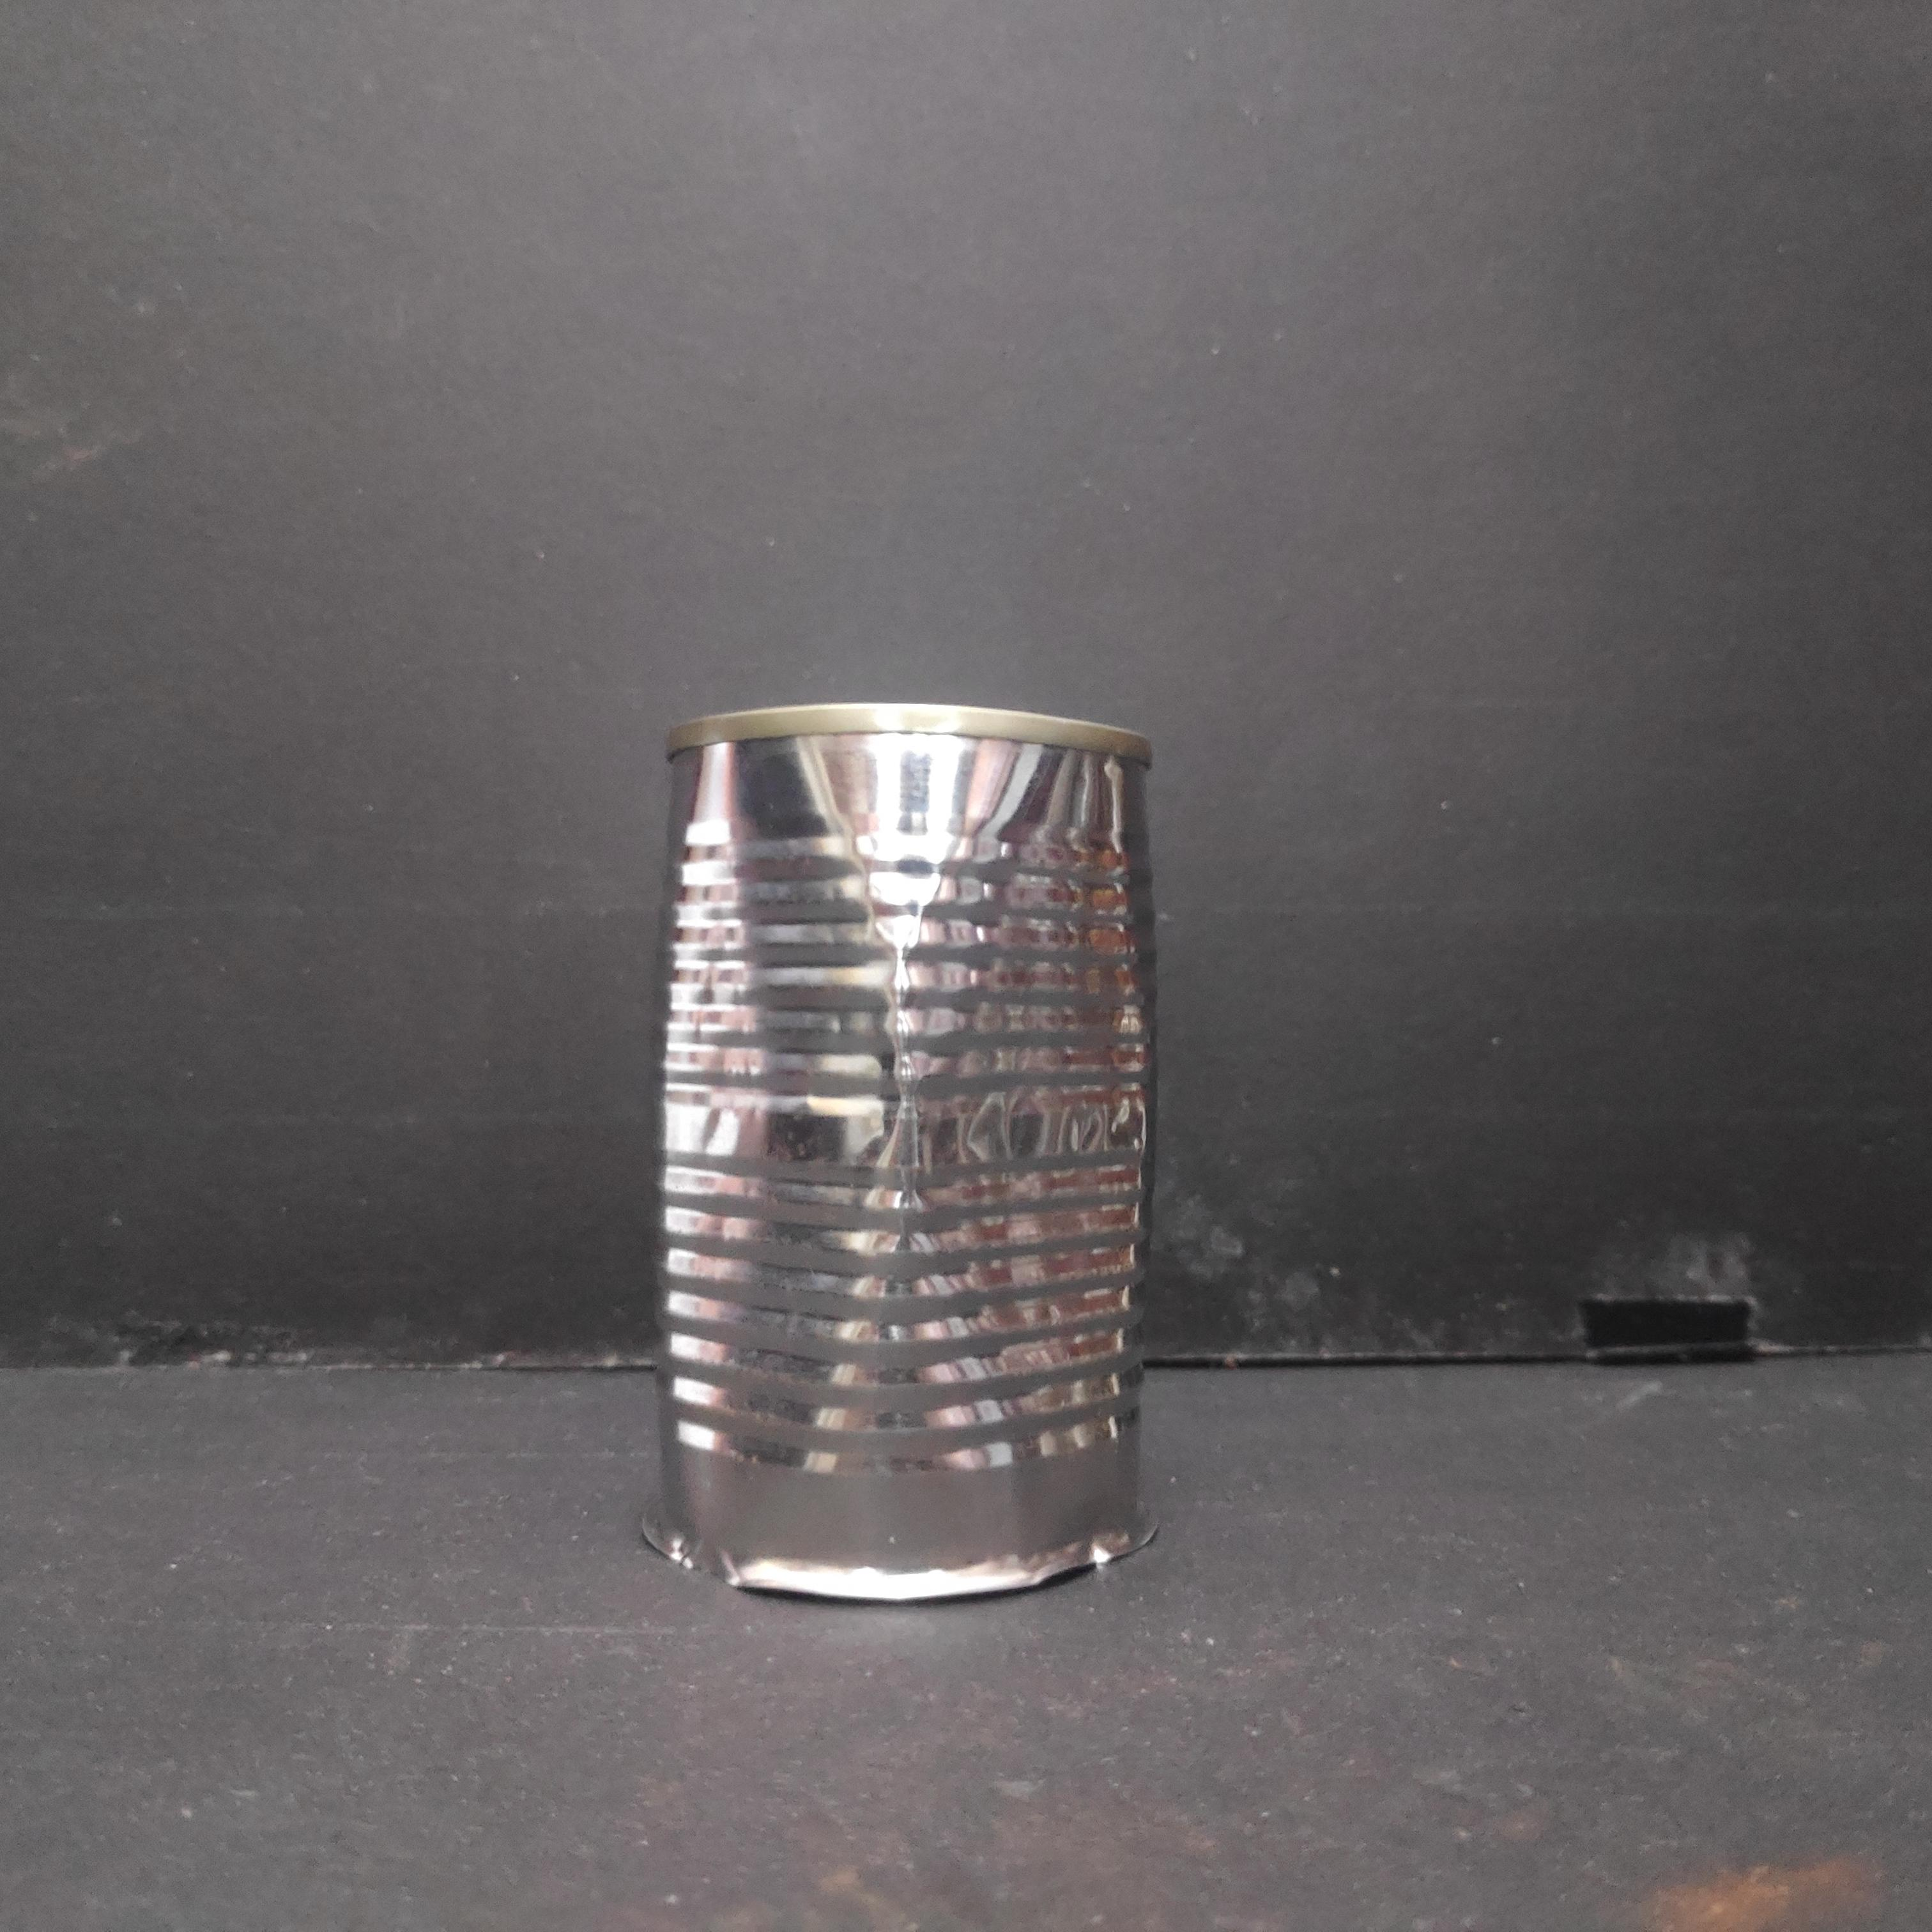Minor Defect: (646, 690, 1166, 1605)
